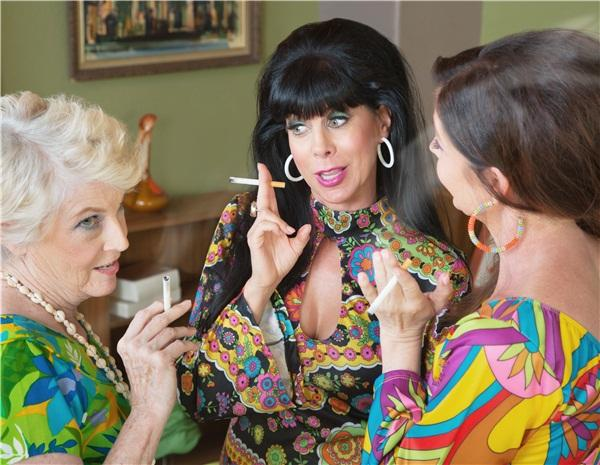smoke: (364, 253, 415, 322), (225, 170, 288, 189), (154, 269, 177, 319)
